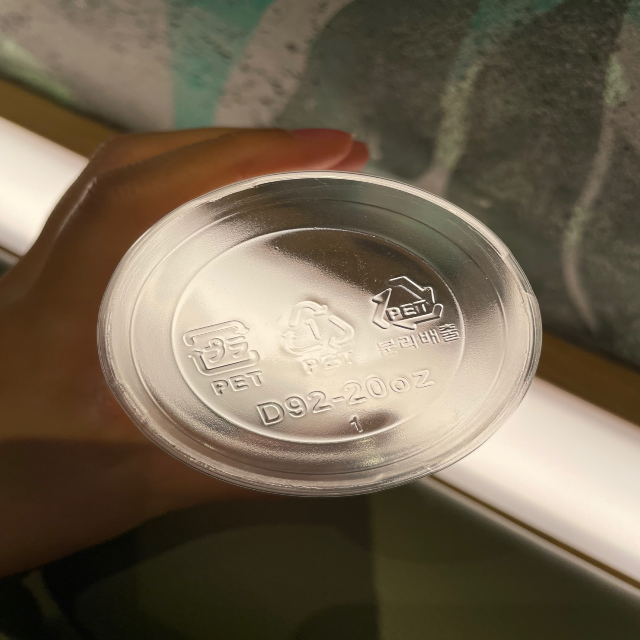pet: (366, 270, 470, 358), (174, 314, 270, 398), (277, 297, 364, 378)
